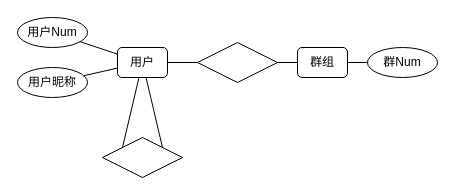
The diagram is 455 pixels wide and 195 high, and some of its shapes have lost their labels. The centre of each missing label's shape, as x and y in pixels:
"好友" goes at (142,157).
"属于" goes at (237,62).
